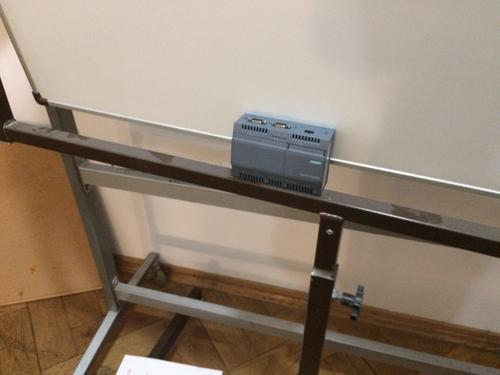iot2000: (230, 112, 336, 196)
